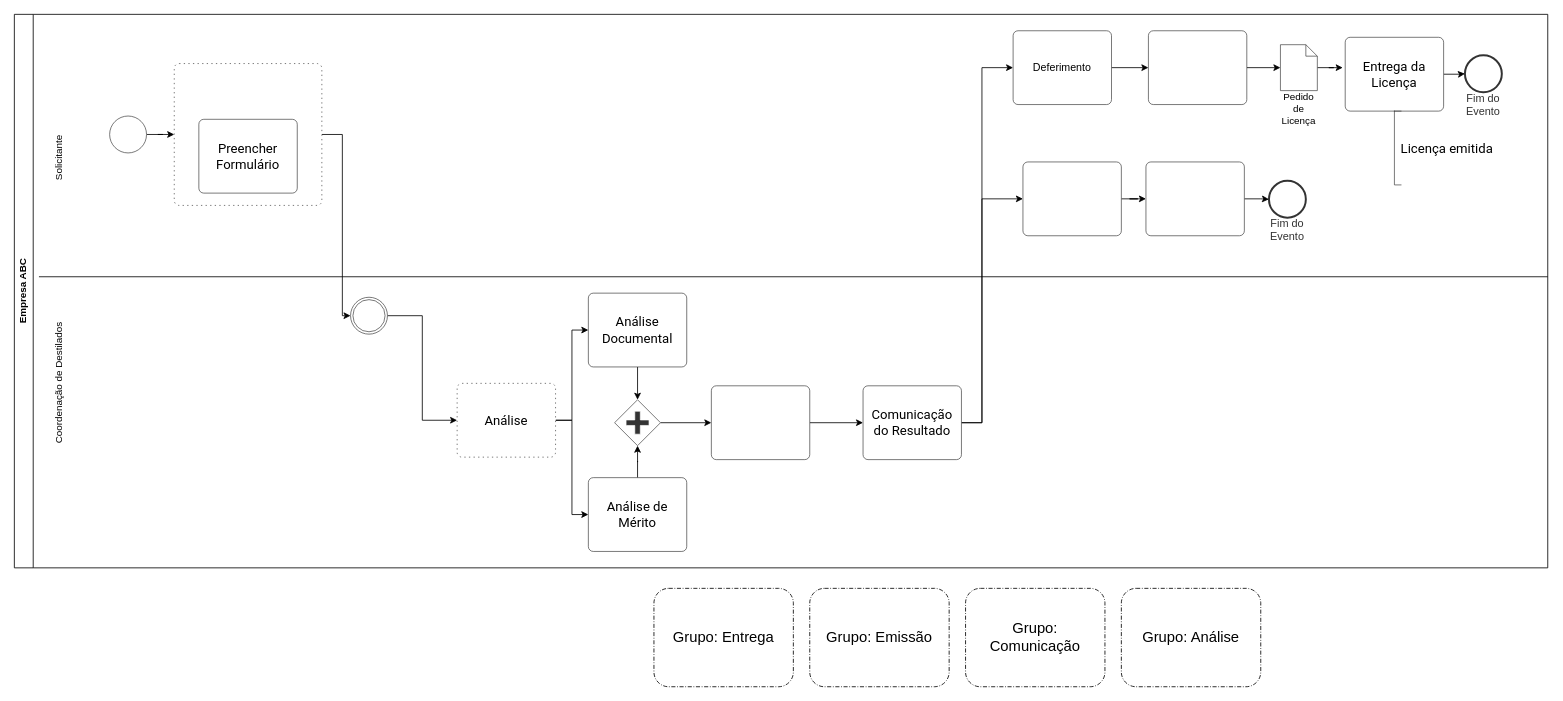
This 1563x701 diagram has some shape labels left out. The shapes that lost their labels are listed below. From the top down, each one's box as (x1, y1, x2, y2) in pixels, then its label:
(1148, 30, 1247, 104): Protocolo
(109, 115, 146, 153): Incício do Processo
(174, 63, 322, 205): Preenchimento do Formulário
(1022, 161, 1121, 236): Indeferimento
(1145, 161, 1244, 236): Solicitante Informado
(350, 297, 387, 334): Recebimento do Formulário
(711, 385, 810, 460): Emissão do Certificado
